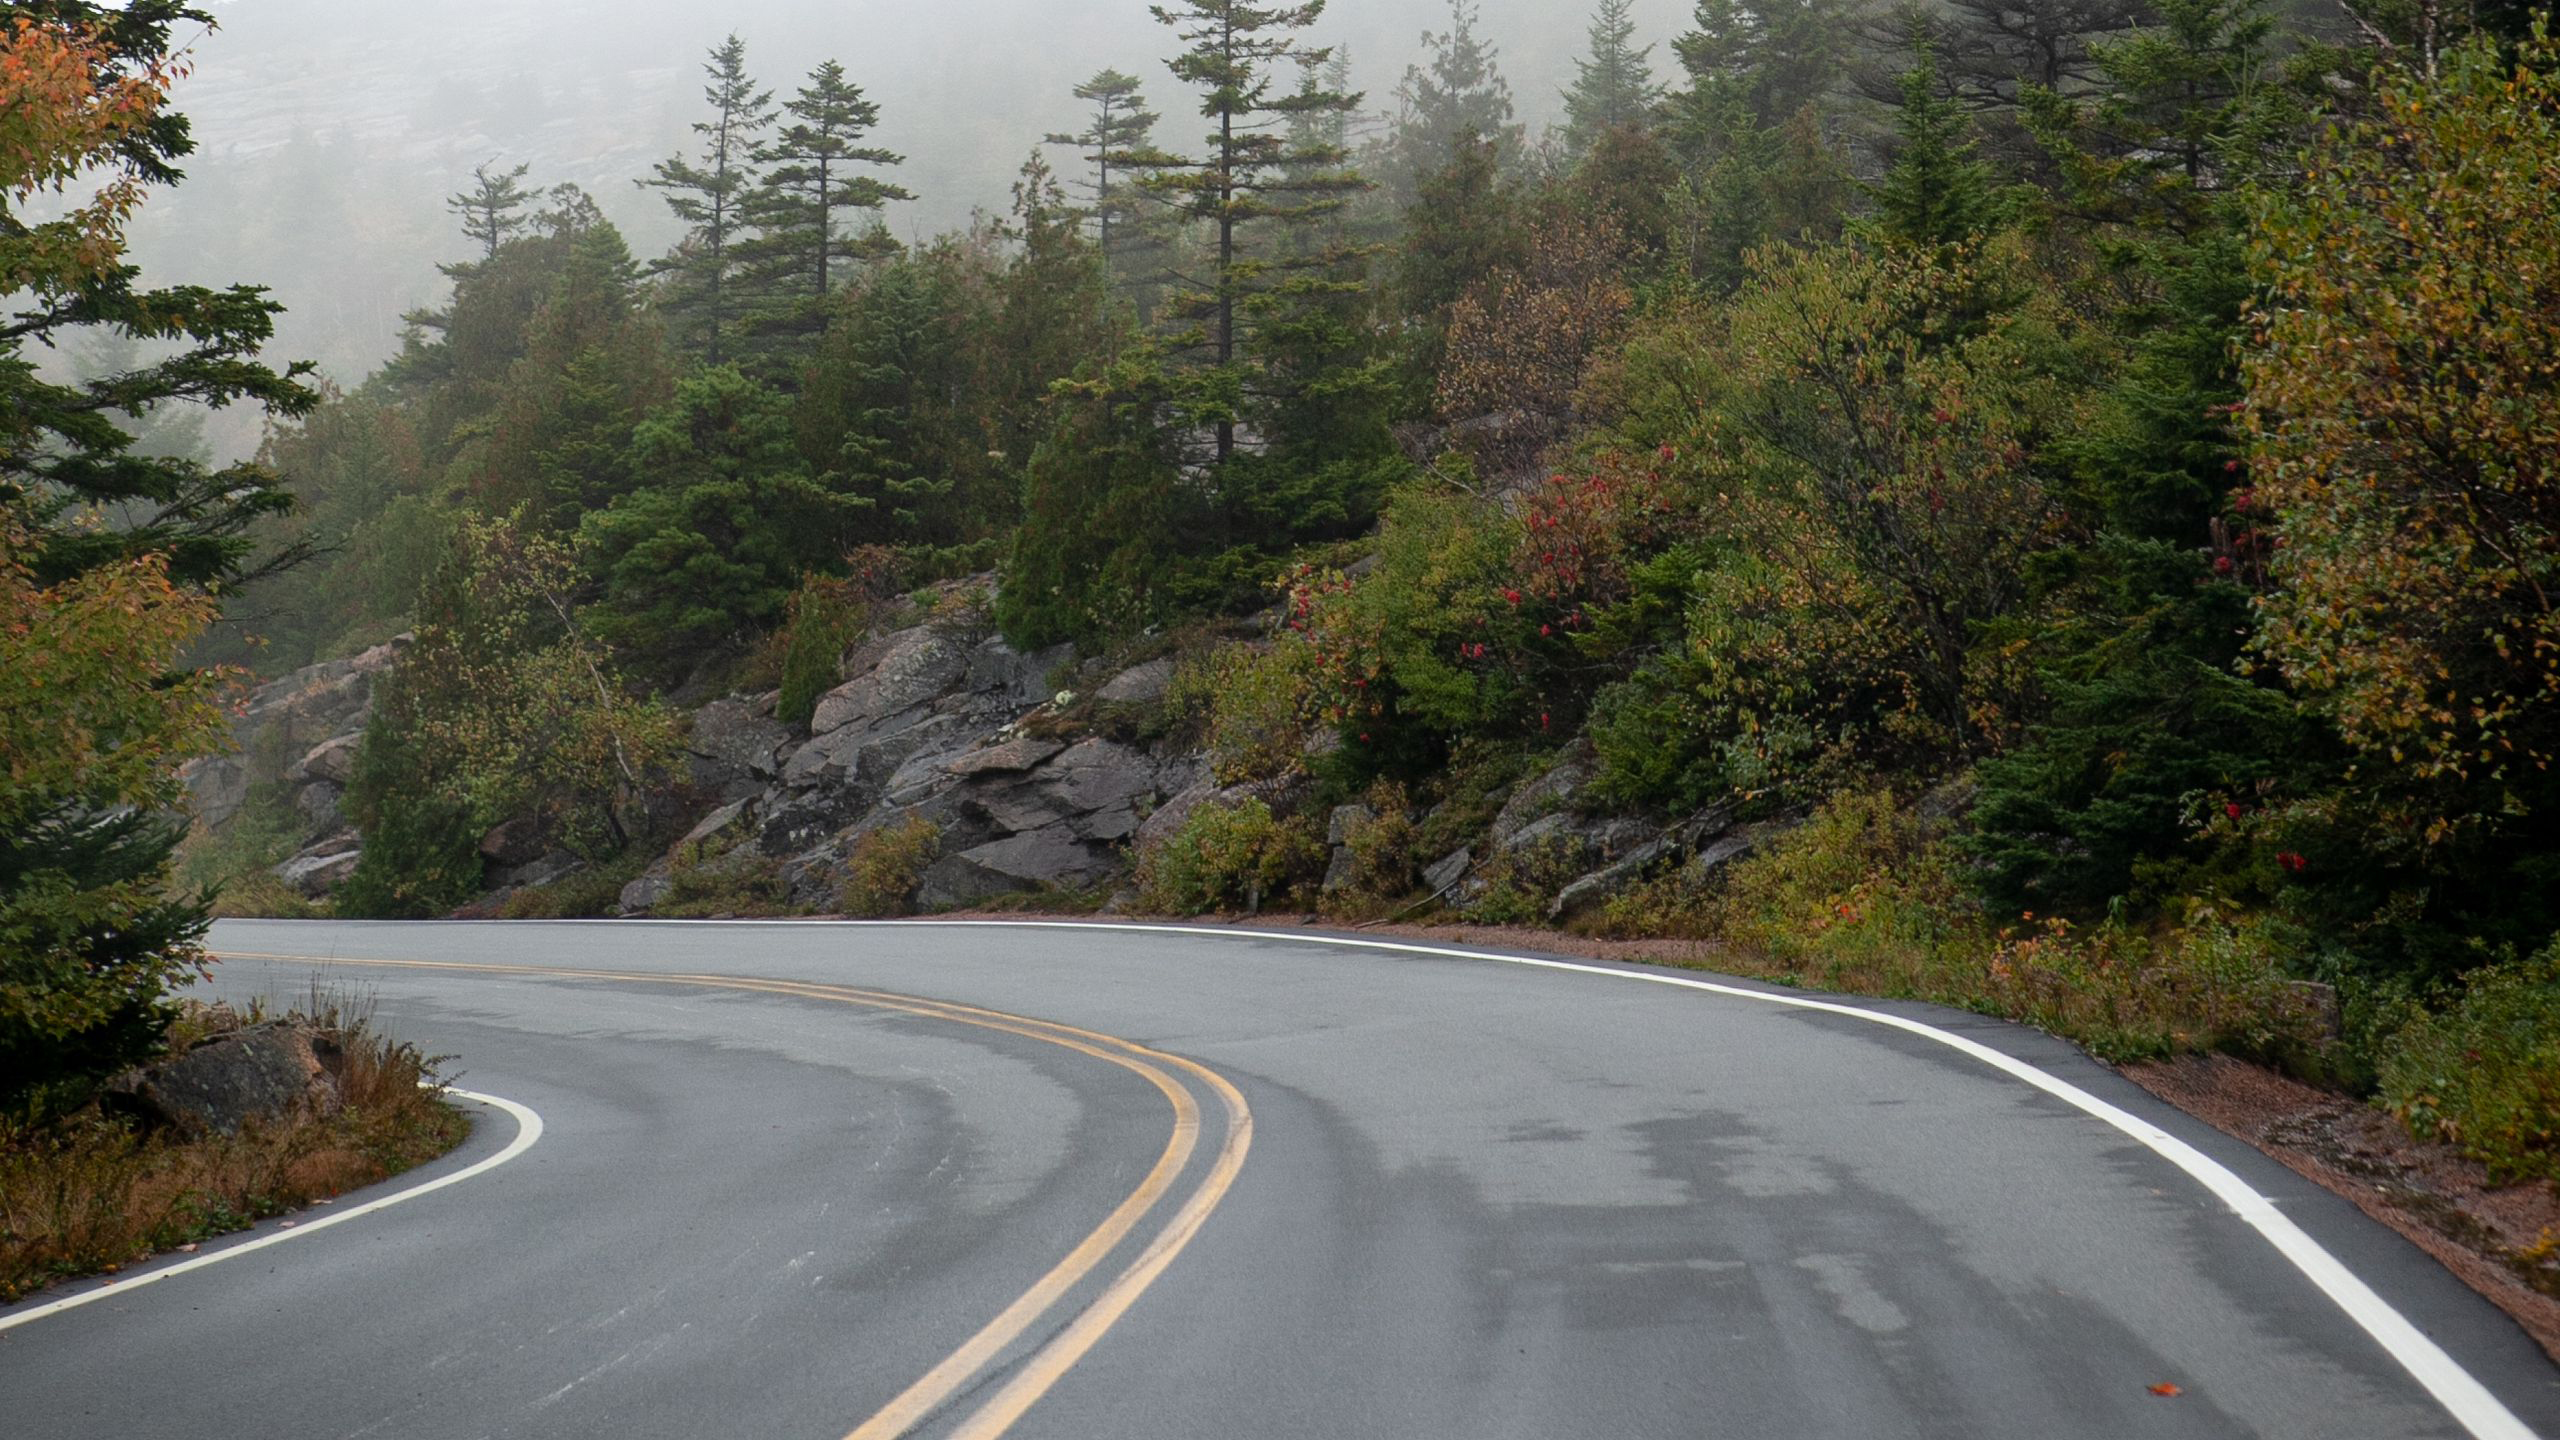leftTrun: (329, 830, 1823, 1428)
